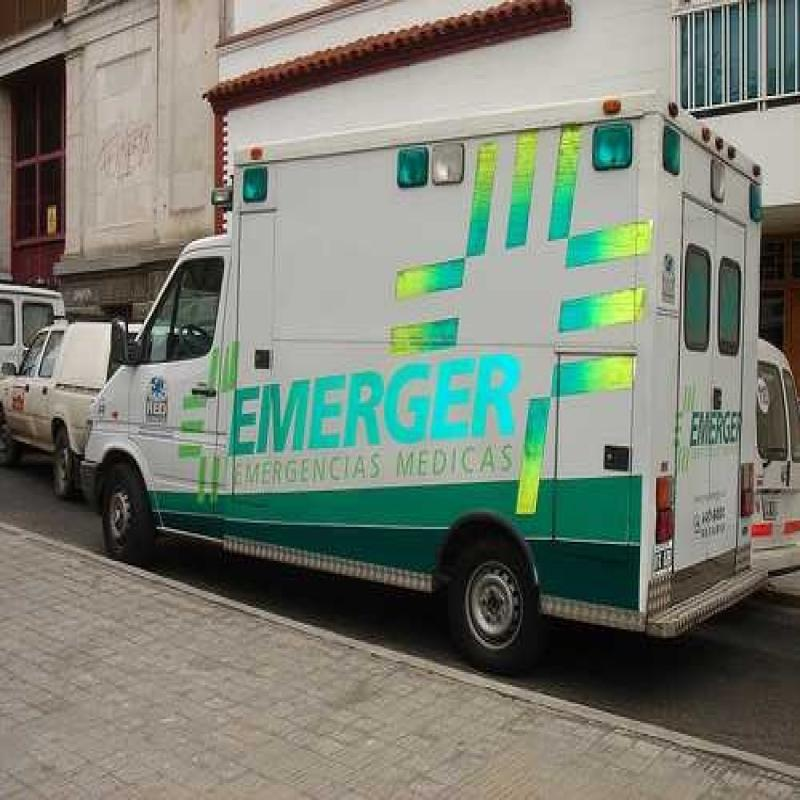AmbulanceSiren: (390, 143, 470, 215), (583, 109, 638, 188), (227, 139, 279, 218)
